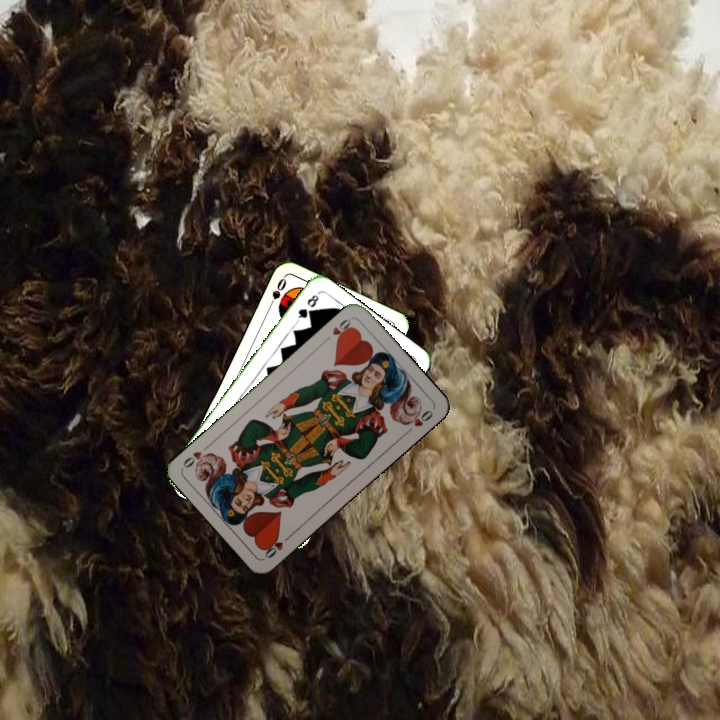G8: (293, 290, 321, 324)
HO: (260, 530, 294, 561), (320, 315, 355, 345)
SO: (264, 274, 289, 312)
